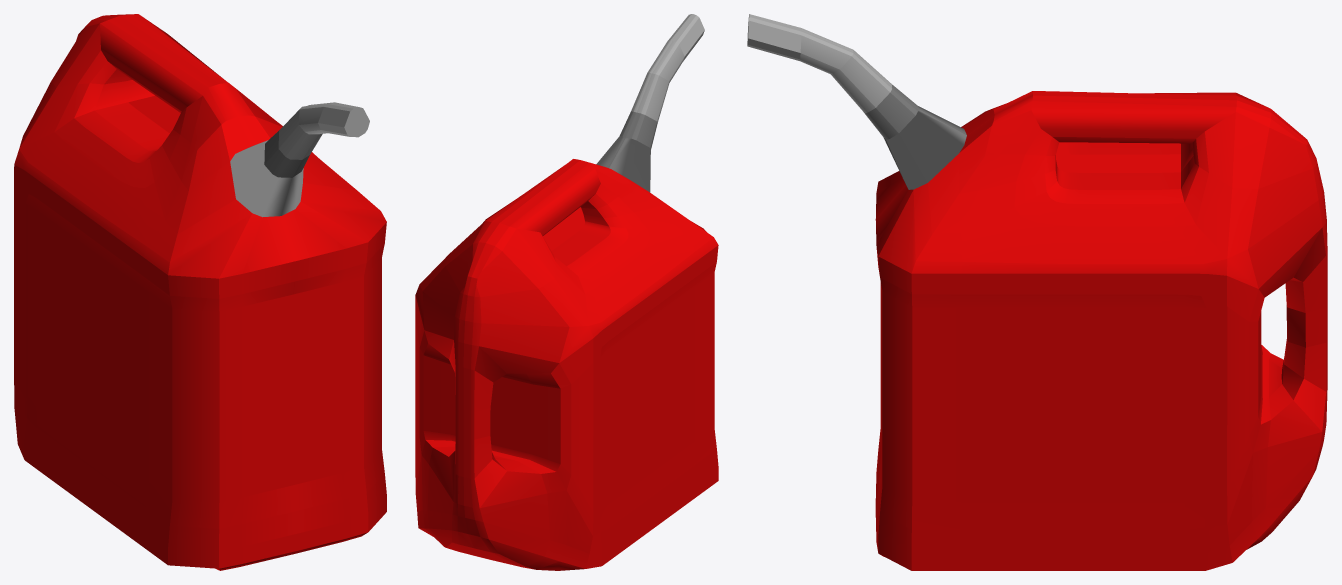
Rendered from Gas.fbx.
The picture shows the model from 3 angles, left to right: view 1: azimuth 30°, elevation 25°; view 2: azimuth 150°, elevation 25°; view 3: azimuth 270°, elevation 25°; orthographic projection. The views are drawn at different scales.
Visible parts, largest first — view 1: Gas; view 2: Gas; view 3: Gas.
Boxes of the visible parts, box(x1,y1,x2,y2) form: Gas: box(14, 14, 386, 570); Gas: box(415, 14, 718, 570); Gas: box(747, 14, 1327, 570).
Size of the model in its own units: 8.58 by 18.58 by 19.23.
